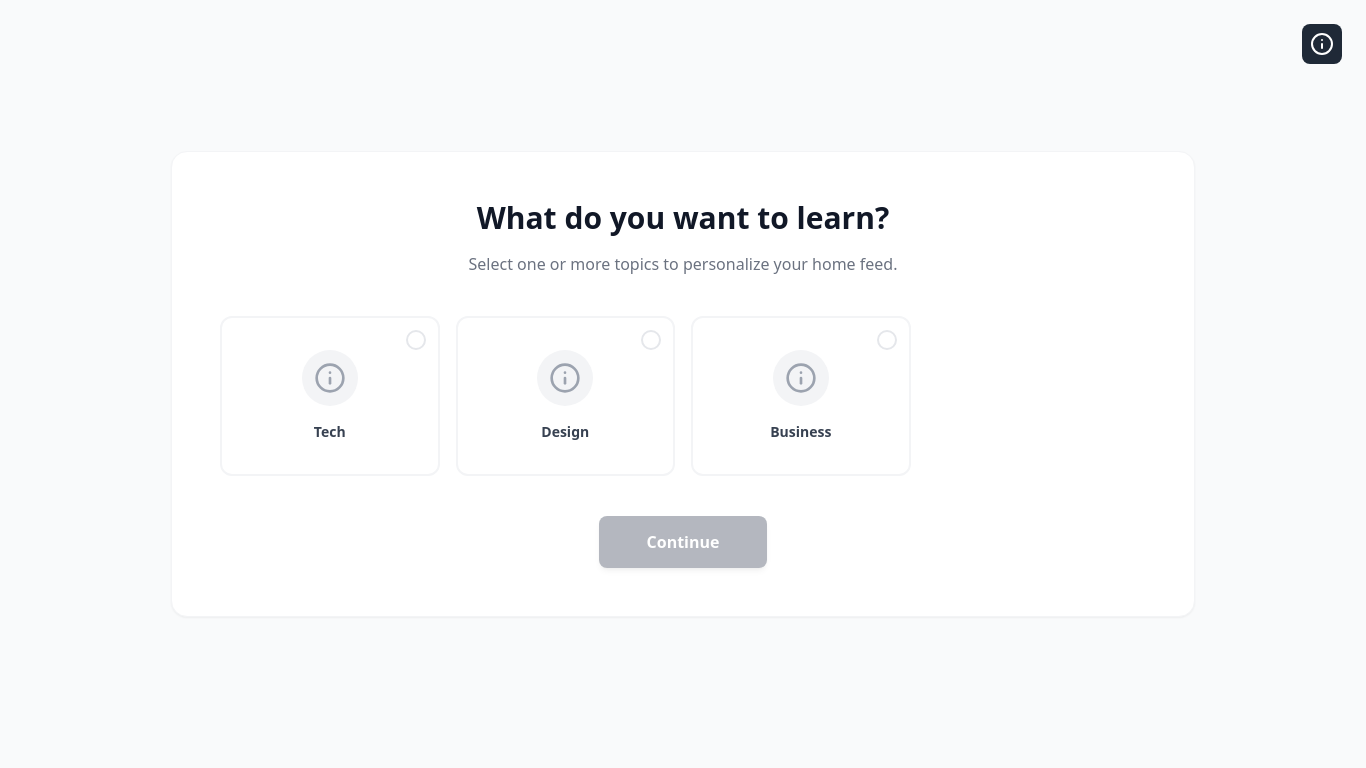
OnboardingPage › opens info modal when info button is clicked
Step 1. Click the button named "Show information" → click(1322, 44), box 1302,24 -> 1342,64
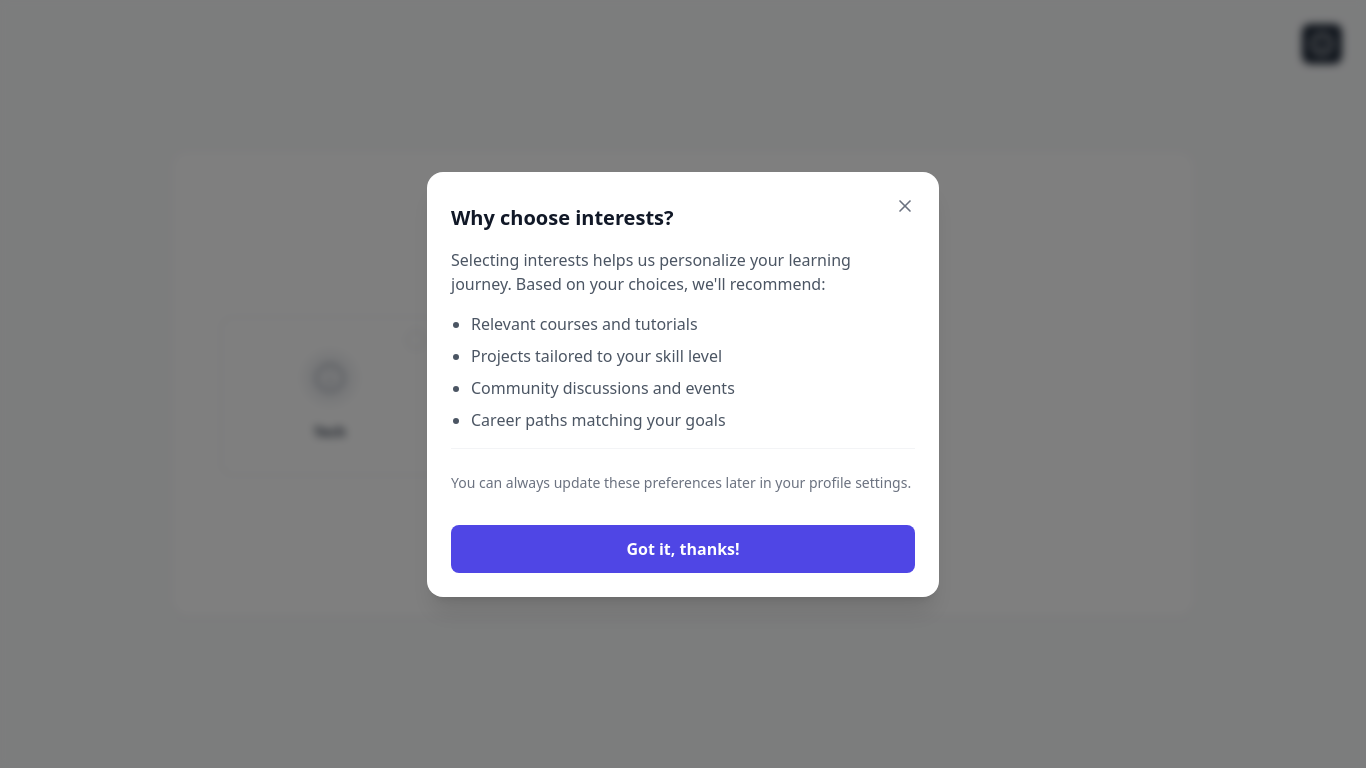
Check: the heading "Why choose interests?" is shown, box 451,204 -> 674,230
Check: the dialog is shown
